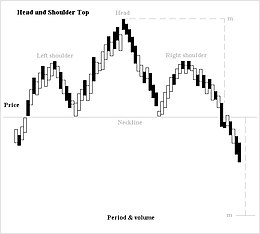H&S Pattern: (29, 19, 242, 157)
